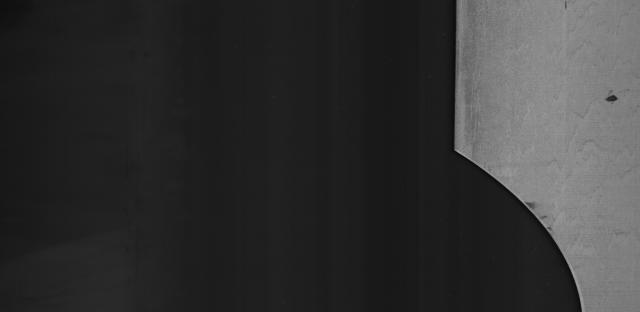crescent_gap: (426, 137, 604, 312)
